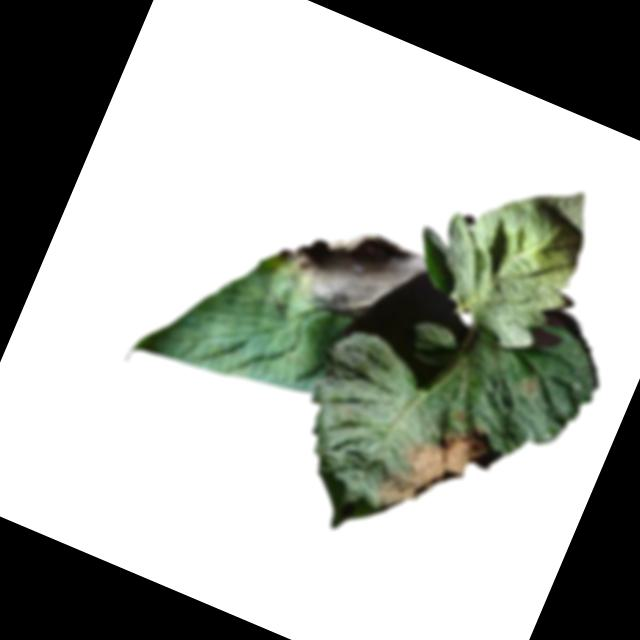Late_blight: (266, 201, 432, 340), (368, 398, 511, 548), (515, 370, 548, 402)
